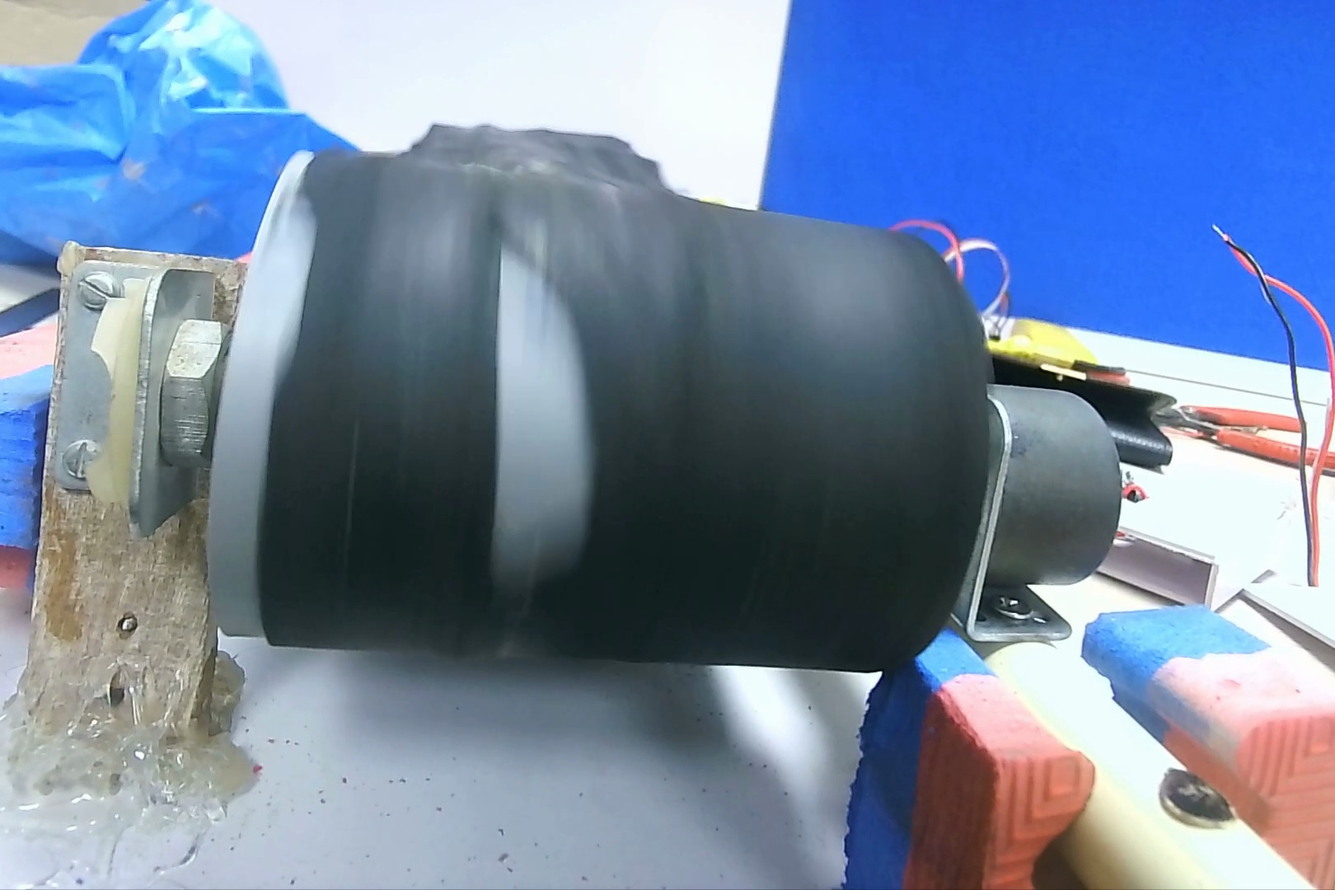hole: (833, 672, 881, 714)
tear: (498, 220, 578, 465)
